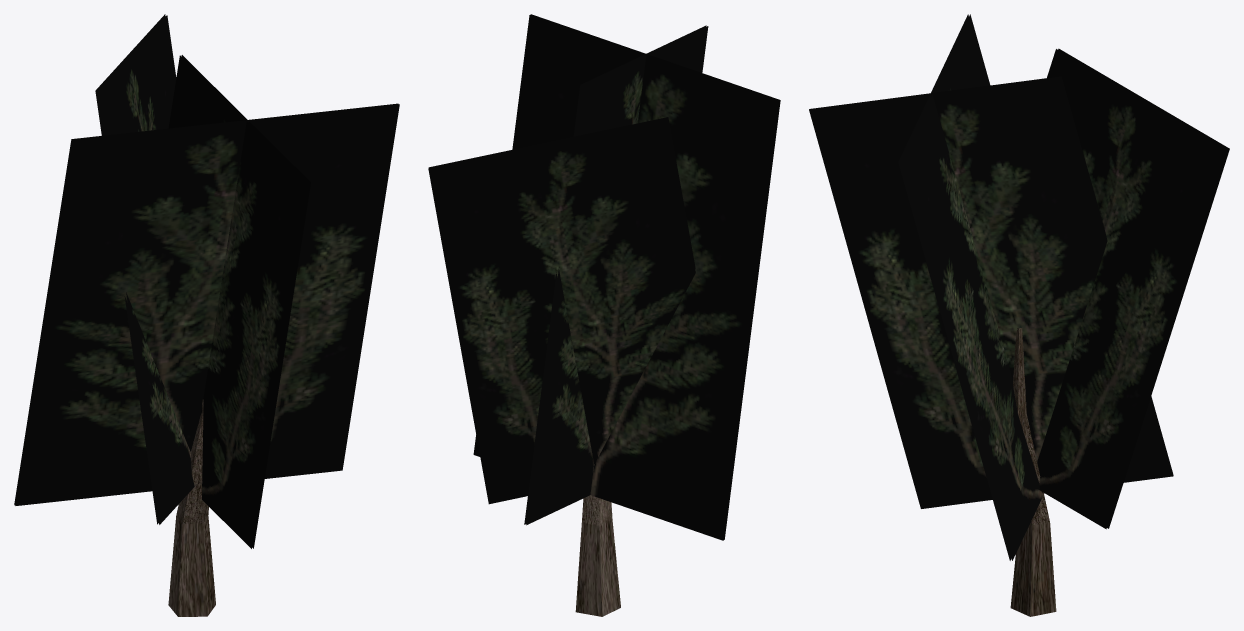
Rendered from mtns_shrb_evergreen_a4_l0.fbx.
The picture shows the model from 3 angles, left to right: view 1: azimuth 30°, elevation 25°; view 2: azimuth 150°, elevation 25°; view 3: azimuth 270°, elevation 25°; orthographic projection. The views are drawn at different scales.
Visible parts, largest first — view 1: mesh_node; view 2: mesh_node; view 3: mesh_node.
Boxes of the visible parts, x1,y1,x2,y2 form: mesh_node: [14, 14, 399, 616]; mesh_node: [428, 14, 780, 616]; mesh_node: [809, 14, 1229, 616].
Bounding box in the file's own units: 1.02 × 1.82 × 1.31.
